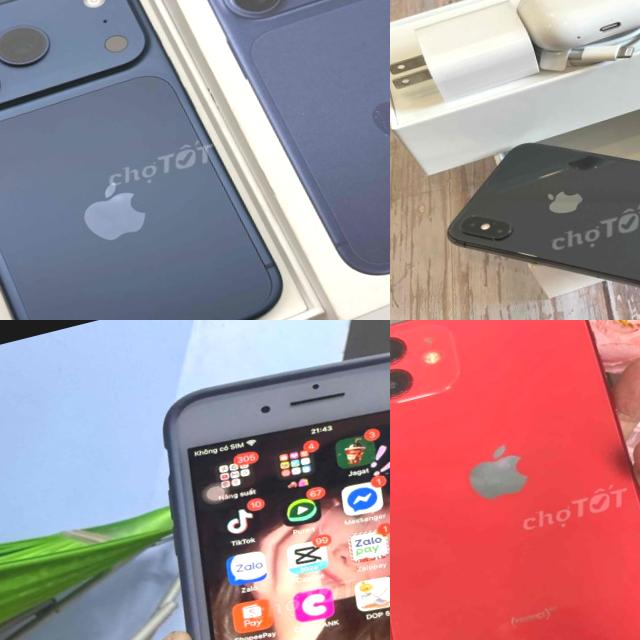gen_11: (390, 320, 640, 640)
gen_17: (0, 0, 304, 320)
gen_7_8: (92, 320, 390, 640)
gen_x_xs: (447, 143, 640, 286)
